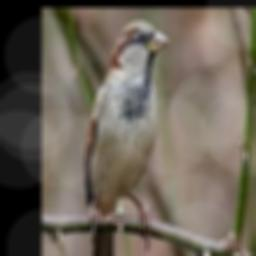Sparrow: (85, 21, 169, 256)
